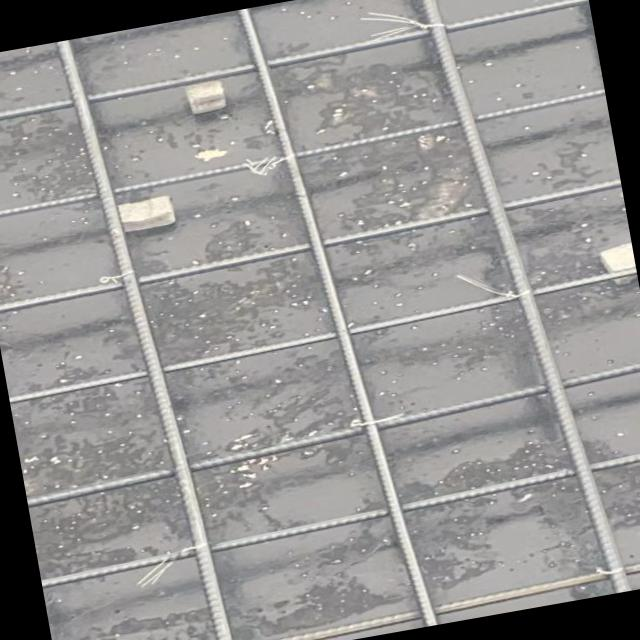ribbed bar: (407, 0, 629, 609), (234, 0, 439, 639), (55, 28, 241, 640), (21, 358, 640, 510), (5, 266, 640, 406), (0, 175, 623, 315), (36, 445, 640, 588), (0, 85, 607, 224), (0, 0, 591, 128), (55, 551, 640, 640)
